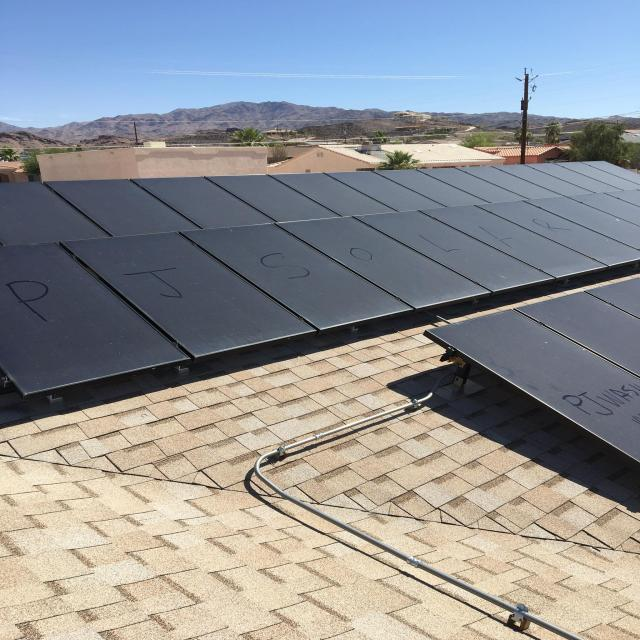dust-solar-panel: (0, 161, 640, 394), (435, 271, 640, 457)
